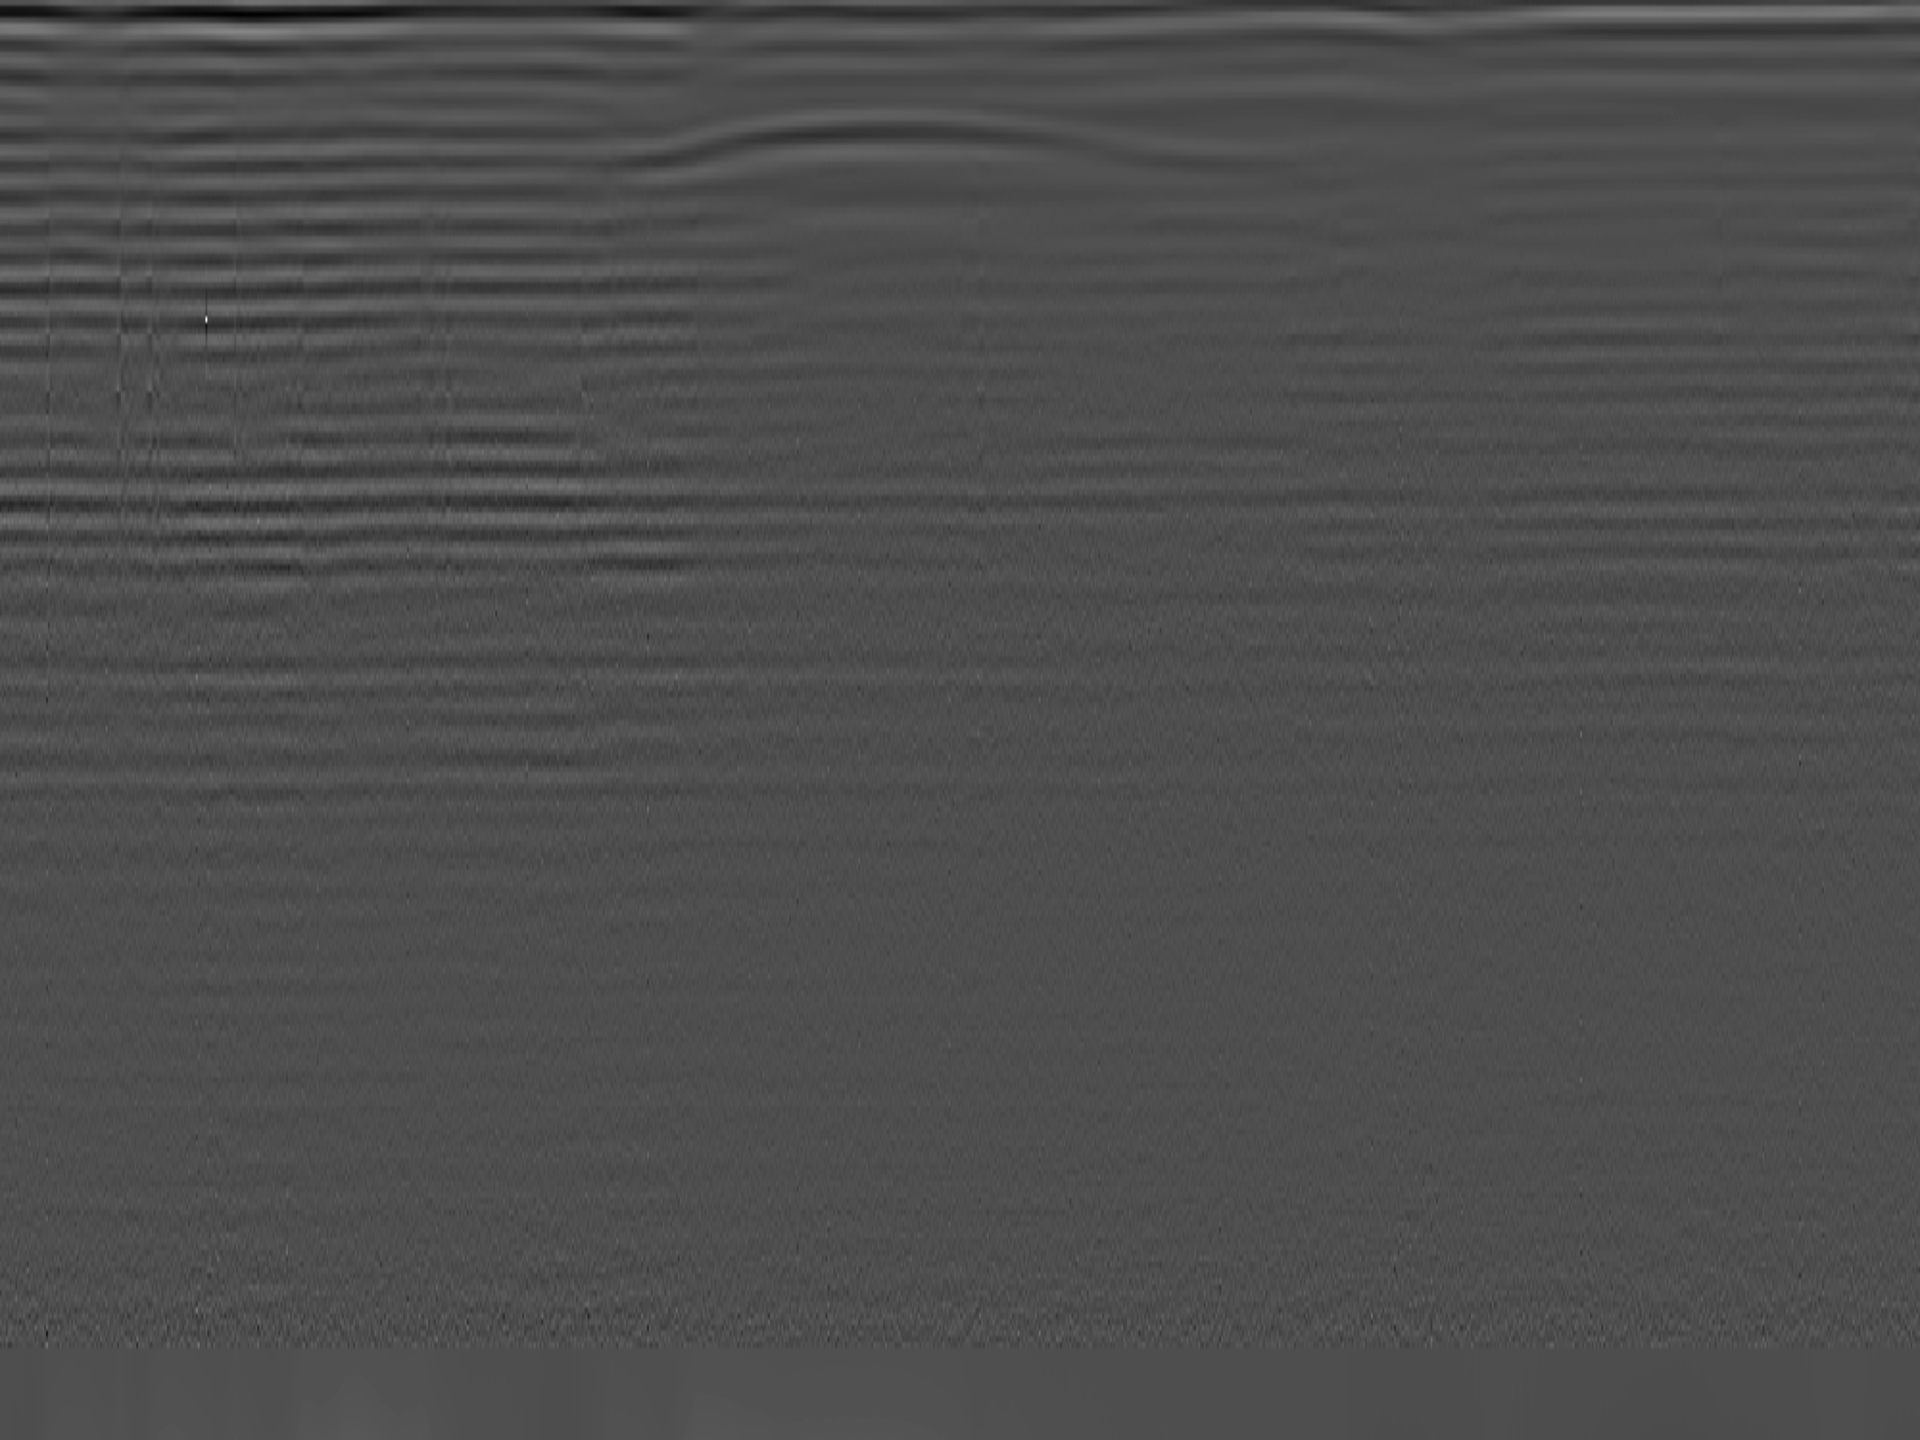Tunnel: (621, 106, 1282, 182)
